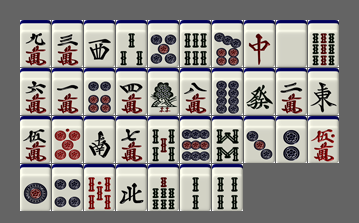0m: (308, 116, 339, 163)
0p: (52, 116, 83, 163)
0s: (84, 164, 115, 211)
1m: (52, 68, 83, 115)
1p: (20, 164, 51, 211)
1s: (148, 68, 179, 115)
1z: (308, 68, 339, 115)
2m: (276, 68, 307, 115)
2p: (276, 116, 307, 163)
2s: (180, 164, 211, 211)
2z: (84, 116, 115, 163)
3m: (52, 20, 83, 67)
3p: (244, 116, 275, 163)
3s: (116, 20, 147, 67)
3z: (84, 20, 115, 67)
4m: (116, 68, 147, 115)
4p: (52, 164, 83, 211)
4s: (212, 164, 243, 211)
4z: (116, 164, 147, 211)
5m: (20, 116, 51, 163)
5p: (148, 20, 179, 67)
5s: (148, 116, 179, 163)
5z: (276, 20, 307, 67)
6m: (20, 68, 51, 115)
6p: (84, 68, 115, 115)
6s: (180, 20, 211, 67)
6z: (244, 68, 275, 115)
7m: (116, 116, 147, 163)
7p: (212, 20, 243, 67)
7s: (148, 164, 179, 211)
7z: (244, 20, 275, 67)
8m: (180, 68, 211, 115)
8p: (212, 68, 243, 115)
8s: (212, 116, 243, 163)
9m: (20, 20, 51, 67)
9p: (180, 116, 211, 163)
9s: (308, 20, 339, 67)
